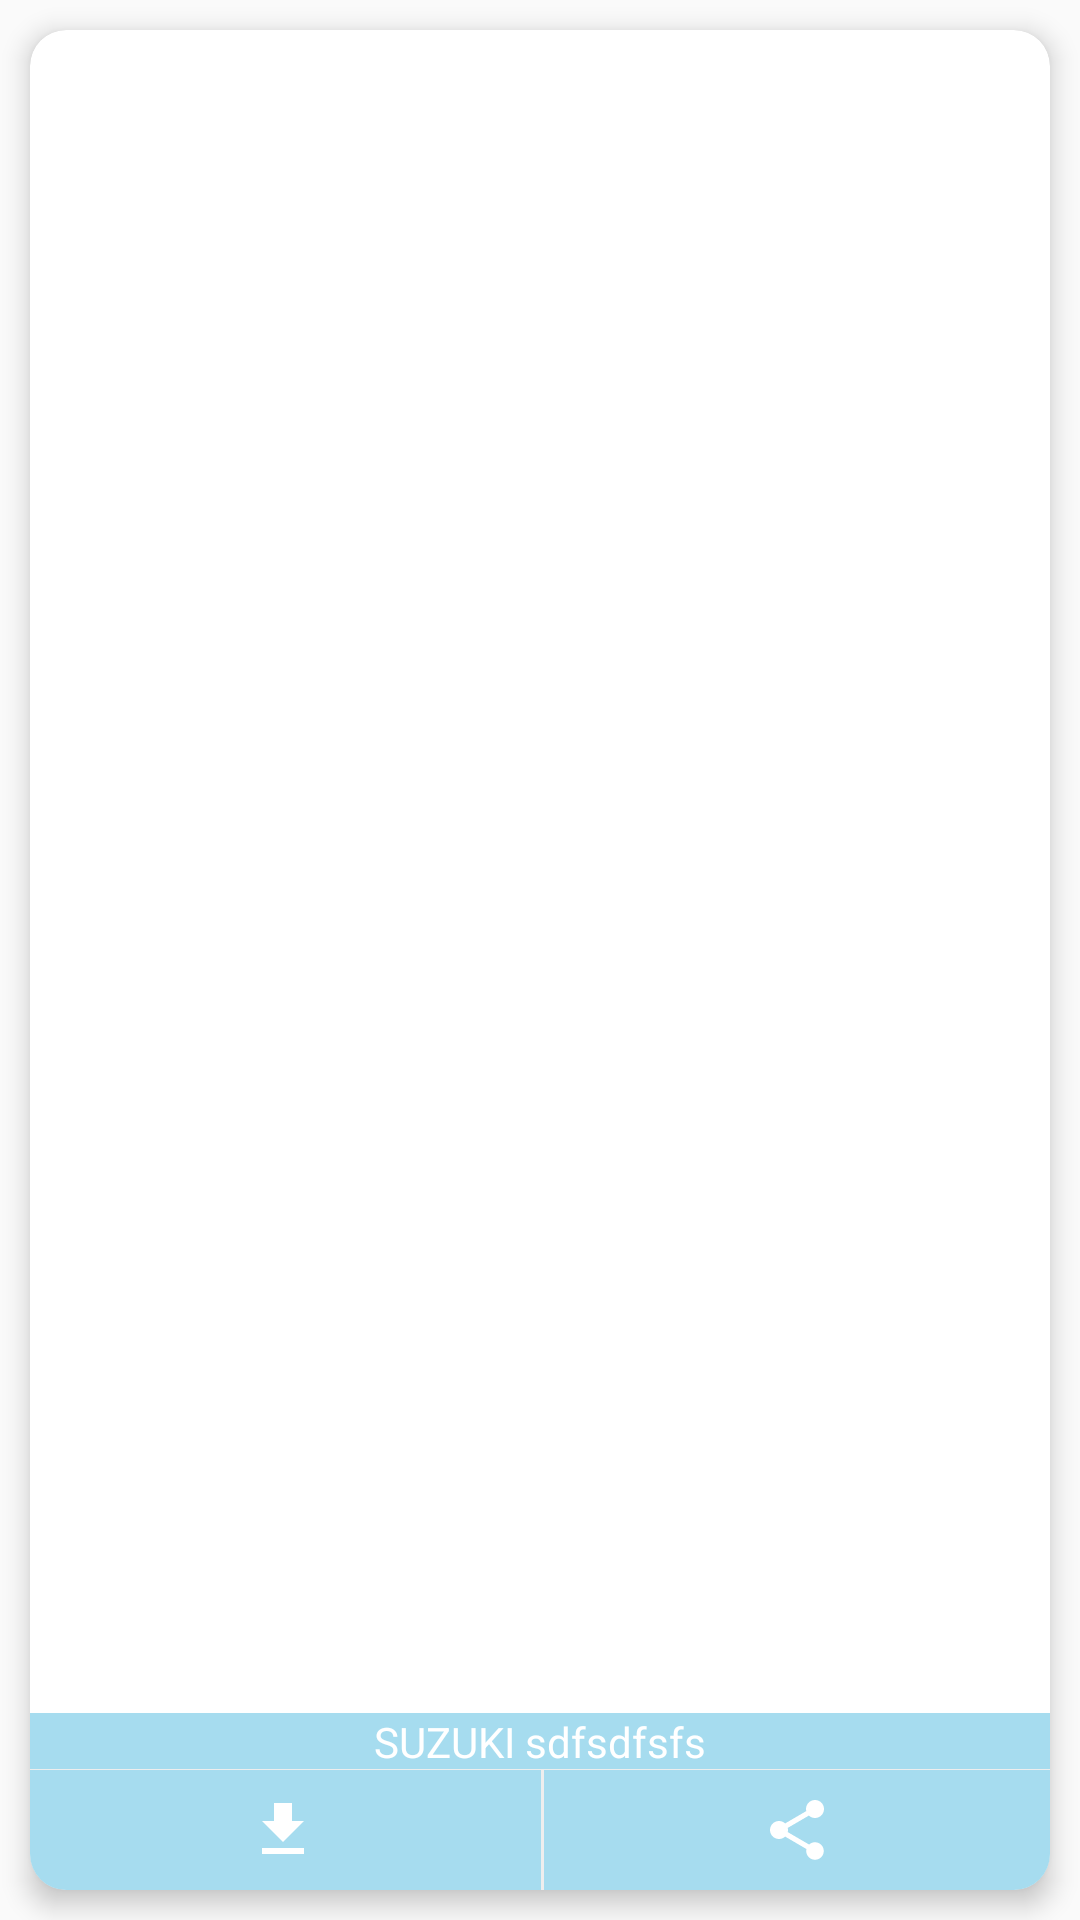

Screen size 1080×1920. Icon name, then its center in pixels as [x,y]:
Save Button: [283,1828]
Share Button: [797,1830]
